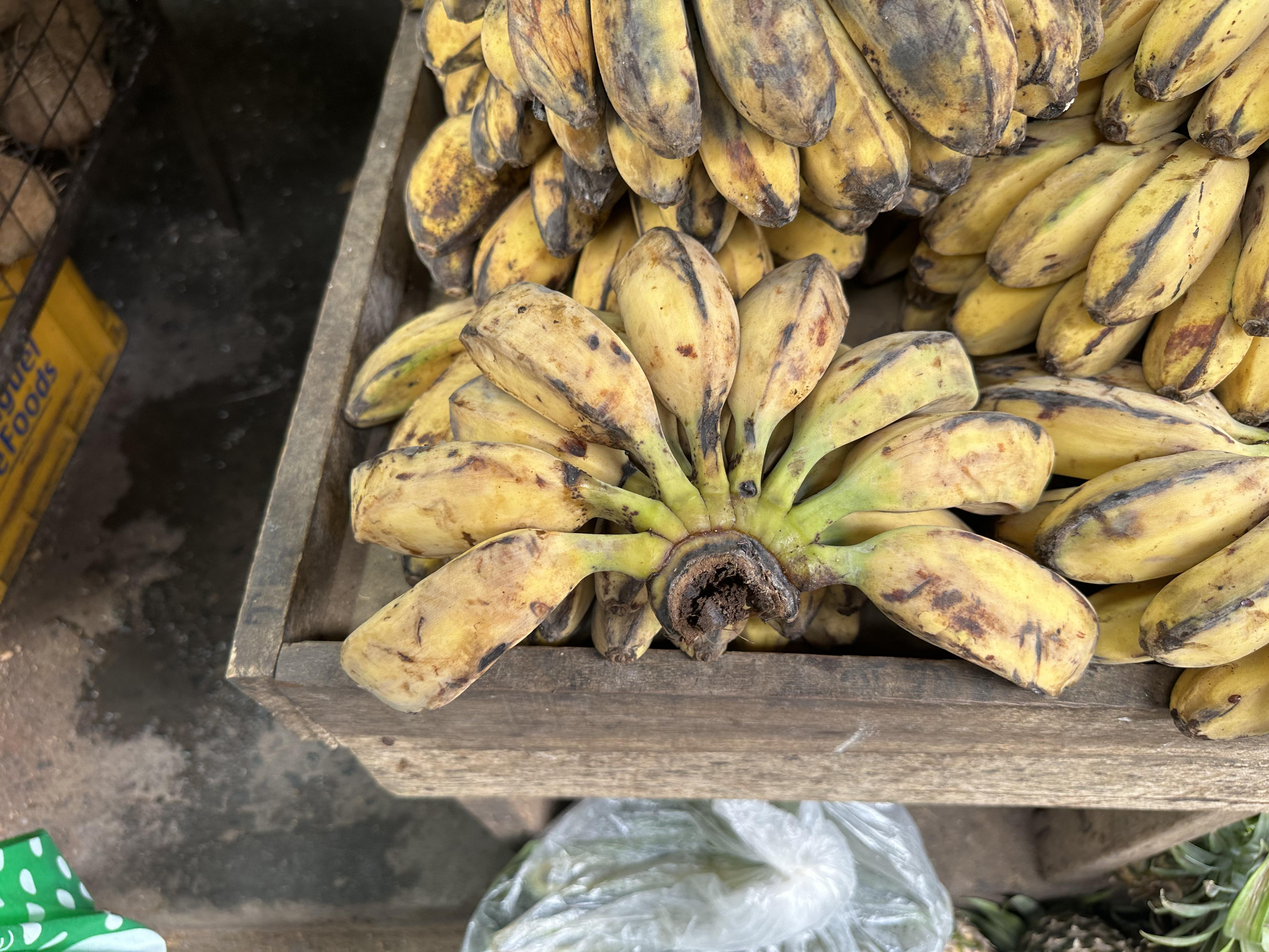ripe: (342, 228, 1098, 711), (482, 0, 1103, 226), (974, 354, 1269, 739), (911, 116, 1269, 424), (405, 78, 878, 311), (1060, 0, 1269, 158)
